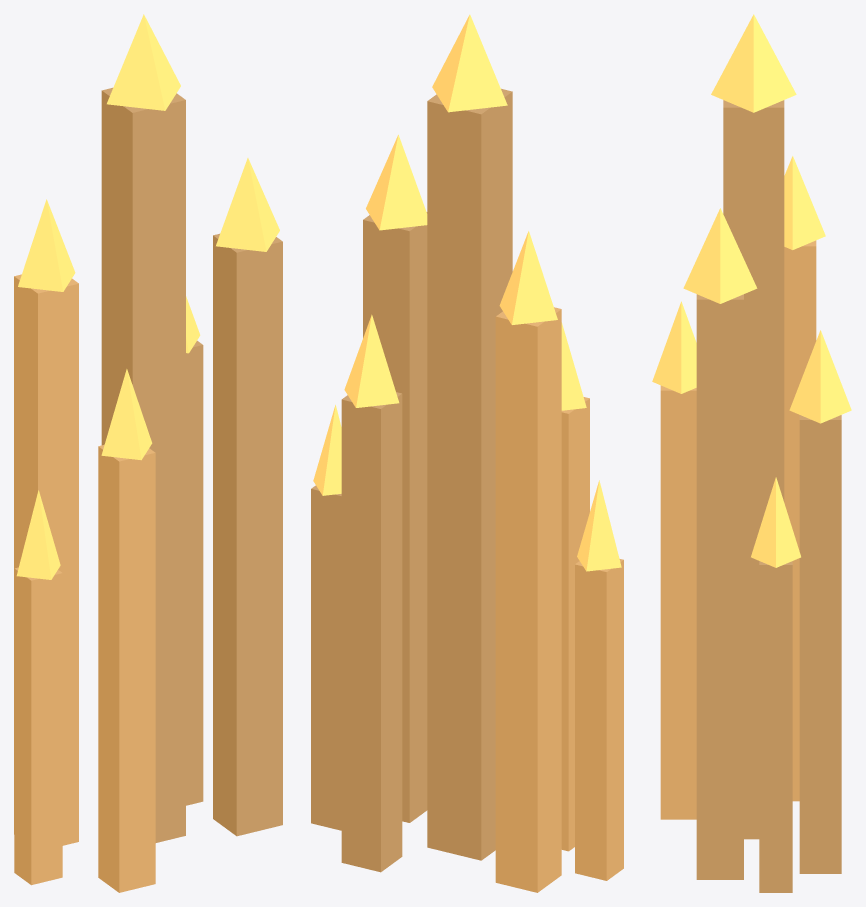
File: 10_memory_world_city.glb
3 renders of one model, left to right at view 1: azimuth 30°, elevation 25°; view 2: azimuth 150°, elevation 25°; view 3: azimuth 270°, elevation 25°, orthographic.
Visible parts, largest first — view 1: World_city_CitySpire_3, World_city_CitySpire_1, World_city_CitySpire_4, World_city_CitySpire_2, World_city_CitySpire_6, World_city_CitySpire_5, World_city_CitySpireTip_1, World_city_CitySpireTip_3, World_city_CitySpireTip_2, World_city_CitySpireTip_4, World_city_CitySpireTip_6; view 2: World_city_CitySpire_1, World_city_CitySpire_2, World_city_CitySpire_5, World_city_CitySpire_3, World_city_CitySpire_6, World_city_CitySpire_7, World_city_CitySpire_4, World_city_CitySpireTip_1, World_city_CitySpireTip_3, World_city_CitySpireTip_2, World_city_CitySpireTip_5, World_city_CitySpireTip_6 (+2 smaller); view 3: World_city_CitySpire_3, World_city_CitySpire_1, World_city_CitySpire_5, World_city_CitySpire_4, World_city_CitySpire_7, World_city_CitySpire_2, World_city_CitySpireTip_1, World_city_CitySpireTip_3, World_city_CitySpireTip_5, World_city_CitySpireTip_4, World_city_CitySpireTip_7, World_city_CitySpireTip_2.
Part boxes in pixels (box(x1,y1,x2,y2)): World_city_CitySpire_3: box(213, 233, 282, 836); World_city_CitySpire_1: box(101, 87, 185, 842); World_city_CitySpire_4: box(98, 444, 155, 892); World_city_CitySpire_2: box(14, 274, 78, 845); World_city_CitySpire_6: box(14, 567, 62, 885); World_city_CitySpire_5: box(186, 340, 203, 805); World_city_CitySpireTip_1: box(107, 14, 180, 110); World_city_CitySpireTip_3: box(216, 158, 279, 251); World_city_CitySpireTip_2: box(18, 199, 75, 291); World_city_CitySpireTip_4: box(101, 369, 152, 460); World_city_CitySpireTip_6: box(16, 490, 60, 579); World_city_CitySpire_1: box(427, 88, 512, 860); World_city_CitySpire_2: box(495, 307, 561, 892); World_city_CitySpire_5: box(341, 392, 402, 872); World_city_CitySpire_3: box(363, 212, 427, 822); World_city_CitySpire_6: box(575, 559, 623, 880); World_city_CitySpire_7: box(311, 485, 341, 830); World_city_CitySpire_4: box(561, 397, 589, 851); World_city_CitySpireTip_1: box(432, 14, 507, 112); World_city_CitySpireTip_3: box(366, 134, 427, 230); World_city_CitySpireTip_2: box(499, 231, 557, 324); World_city_CitySpireTip_5: box(344, 314, 399, 407); World_city_CitySpireTip_6: box(577, 480, 621, 571); World_city_CitySpire_3: box(696, 294, 743, 879); World_city_CitySpire_1: box(723, 100, 784, 839); World_city_CitySpire_5: box(799, 415, 841, 873); World_city_CitySpire_4: box(660, 385, 696, 819); World_city_CitySpire_7: box(759, 561, 792, 892); World_city_CitySpire_2: box(784, 240, 816, 801); World_city_CitySpireTip_1: box(711, 14, 796, 112); World_city_CitySpireTip_3: box(683, 208, 757, 303); World_city_CitySpireTip_5: box(789, 330, 851, 423); World_city_CitySpireTip_4: box(652, 301, 696, 393); World_city_CitySpireTip_7: box(751, 477, 800, 567); World_city_CitySpireTip_2: box(784, 156, 825, 249).
Bounding box in the file's own units: 0.581 × 1.63 × 0.3585.
